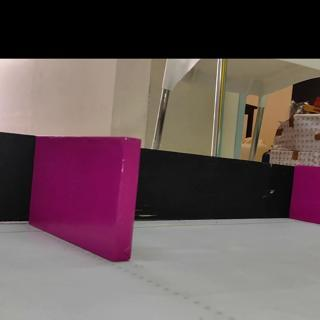xparking: (37, 137, 141, 263), (293, 165, 320, 224)
